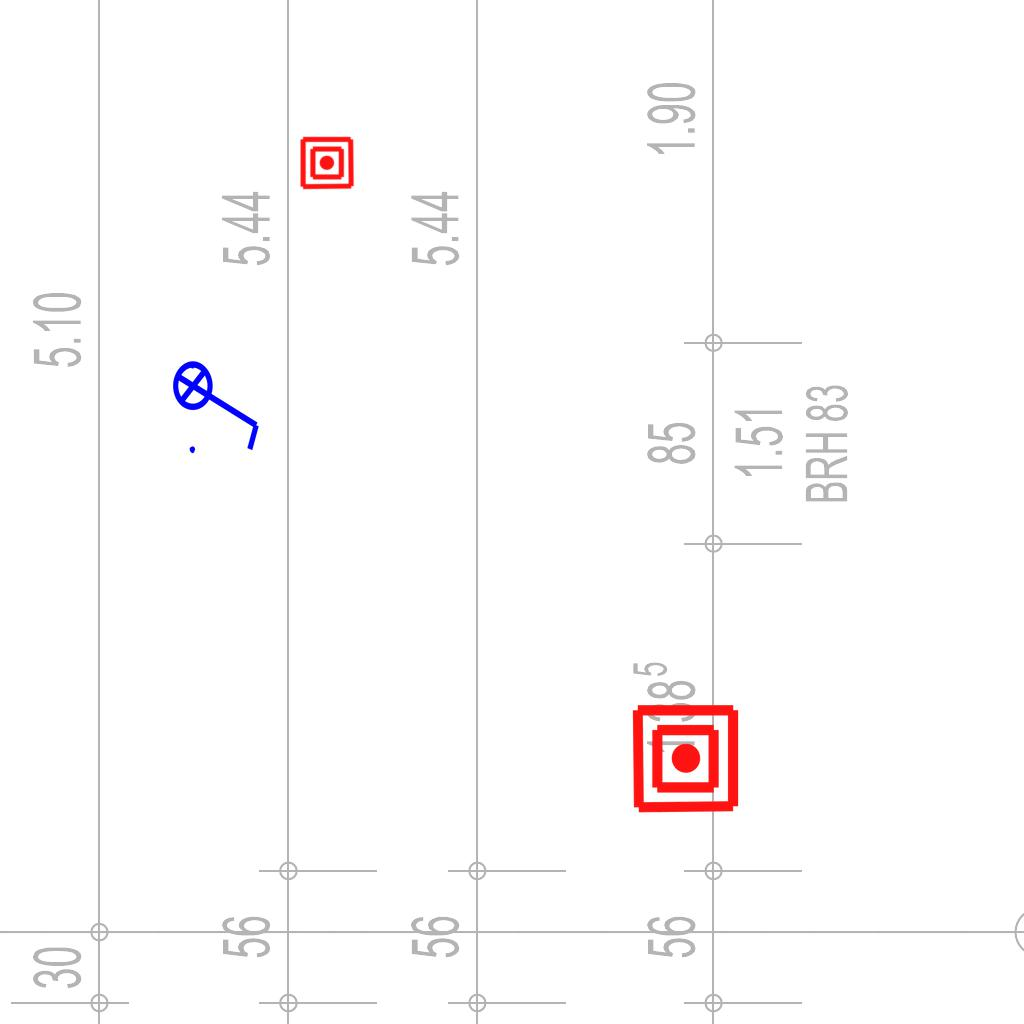Ausschalter_beleuchtet: (171, 347, 267, 459)
NAM-Nichtautomatischer_Melder: (629, 702, 742, 815), (299, 135, 355, 191)
